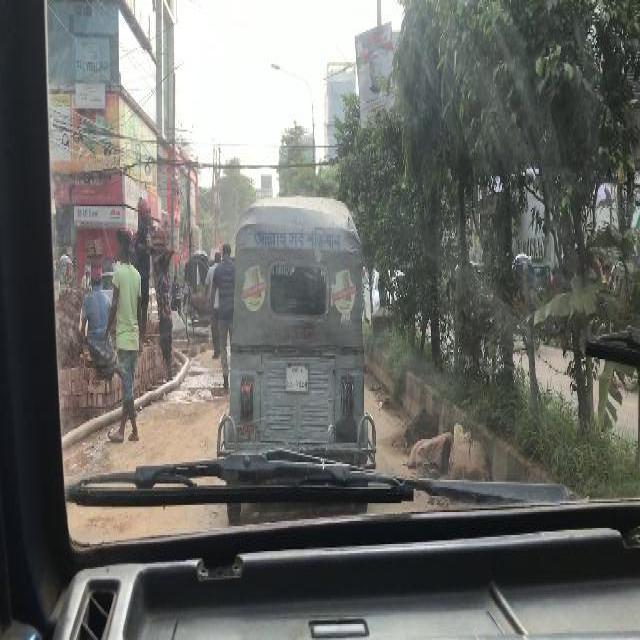vehicle: (217, 193, 377, 520), (85, 271, 162, 332), (186, 257, 217, 346), (513, 255, 539, 344), (57, 252, 75, 291)
